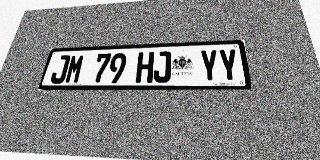7: (91, 53, 112, 83)
9: (107, 53, 127, 83)
H: (135, 52, 154, 83)
J: (49, 55, 71, 84), (153, 51, 171, 83)
M: (64, 54, 85, 84)
Y: (218, 49, 240, 82), (199, 49, 220, 82)
